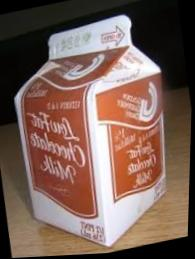cardboard: (0, 0, 193, 258)
